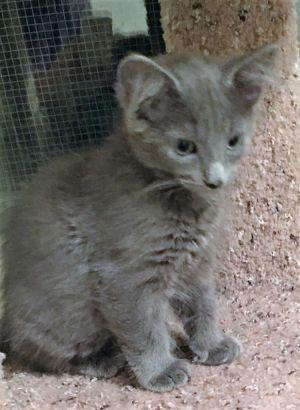rblue: (106, 29, 285, 220)
